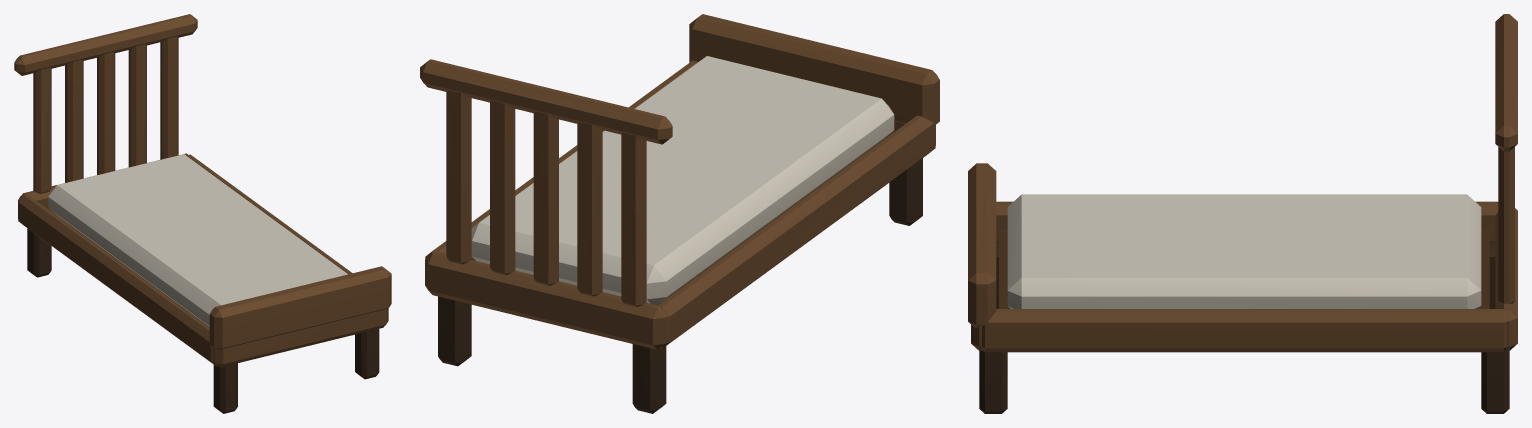
File: single-bed.glb
The picture shows the model from 3 angles, left to right: view 1: azimuth 30°, elevation 25°; view 2: azimuth 150°, elevation 25°; view 3: azimuth 270°, elevation 25°; orthographic projection. The views are drawn at different scales.
Visible parts, largest first — view 1: single_bed; view 2: single_bed; view 3: single_bed.
Boxes of the visible parts, x1,y1,x2,y2 form: single_bed: (14,14,391,413); single_bed: (420,14,939,413); single_bed: (968,14,1517,413).
Bounding box in the file's own units: 1 × 1.15 × 1.95.
